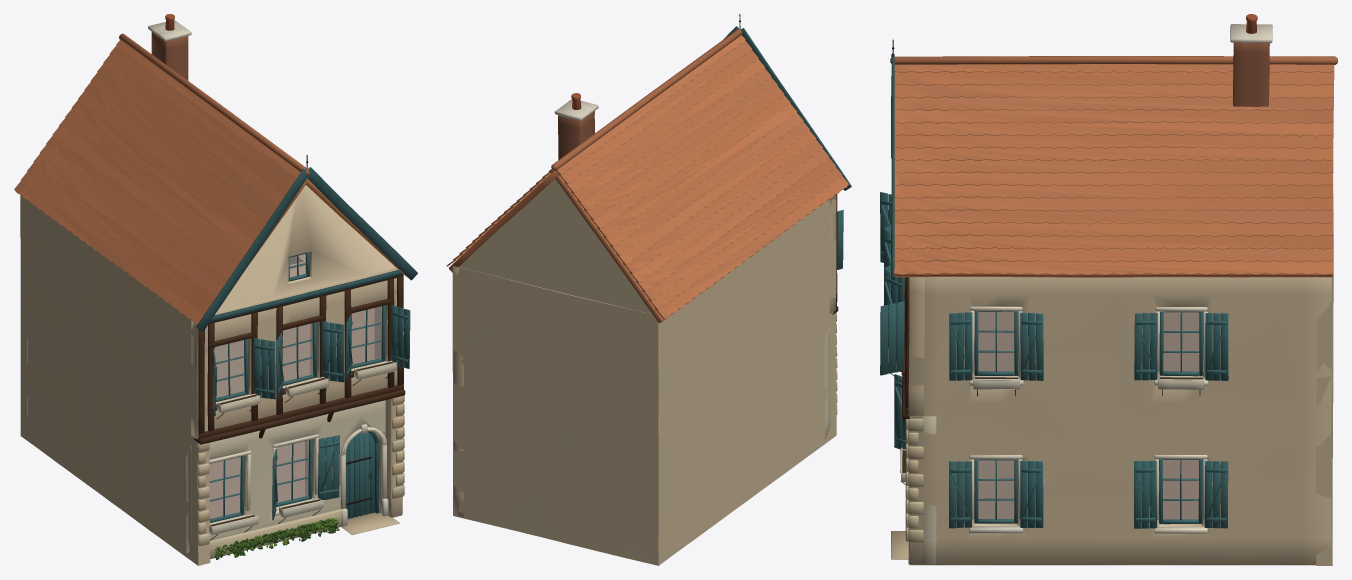
Rendered from GateStreet_BehindOuter3.glb.
3 renders of one model, left to right at view 1: azimuth 30°, elevation 25°; view 2: azimuth 150°, elevation 25°; view 3: azimuth 270°, elevation 25°, orthographic. The views are drawn at different scales.
Visible parts, largest first — view 1: Sammel Putz, Sammel Stein, Sammel Lack, Sammel Holz, Sammel Putz innen, Sammel Quader, Glas, Sammel Pflanze, Sammel Ziegel; view 2: Sammel Putz, Sammel Stein, Sammel Lack, Sammel Ziegel, Sammel Quader; view 3: Sammel Putz, Sammel Stein, Sammel Lack, Sammel Putz innen, Glas, Sammel Ziegel, Sammel Quader, Sammel Holz.
Boxes of the visible parts, x1,y1,x2,y2 form: Sammel Putz: (20,14,402,565); Sammel Stein: (14,33,407,558); Sammel Lack: (196,167,417,534); Sammel Holz: (194,274,405,444); Sammel Putz innen: (209,254,380,518); Sammel Quader: (186,400,385,552); Glas: (210,254,381,518); Sammel Pflanze: (215,518,339,559); Sammel Ziegel: (151,32,188,80); Sammel Putz: (452,93,836,565); Sammel Stein: (446,28,848,414); Sammel Lack: (723,26,851,269); Sammel Ziegel: (558,111,594,159); Sammel Quader: (824,324,830,438); Sammel Putz: (896,14,1333,565); Sammel Stein: (890,56,1337,559); Sammel Lack: (880,53,1228,528); Sammel Putz innen: (974,311,1203,519); Glas: (978,312,1198,519); Sammel Ziegel: (1233,42,1269,106); Sammel Quader: (922,416,936,564); Sammel Holz: (901,277,909,419).
Bounding box in the file's own units: 6.14 × 10.74 × 8.91.
